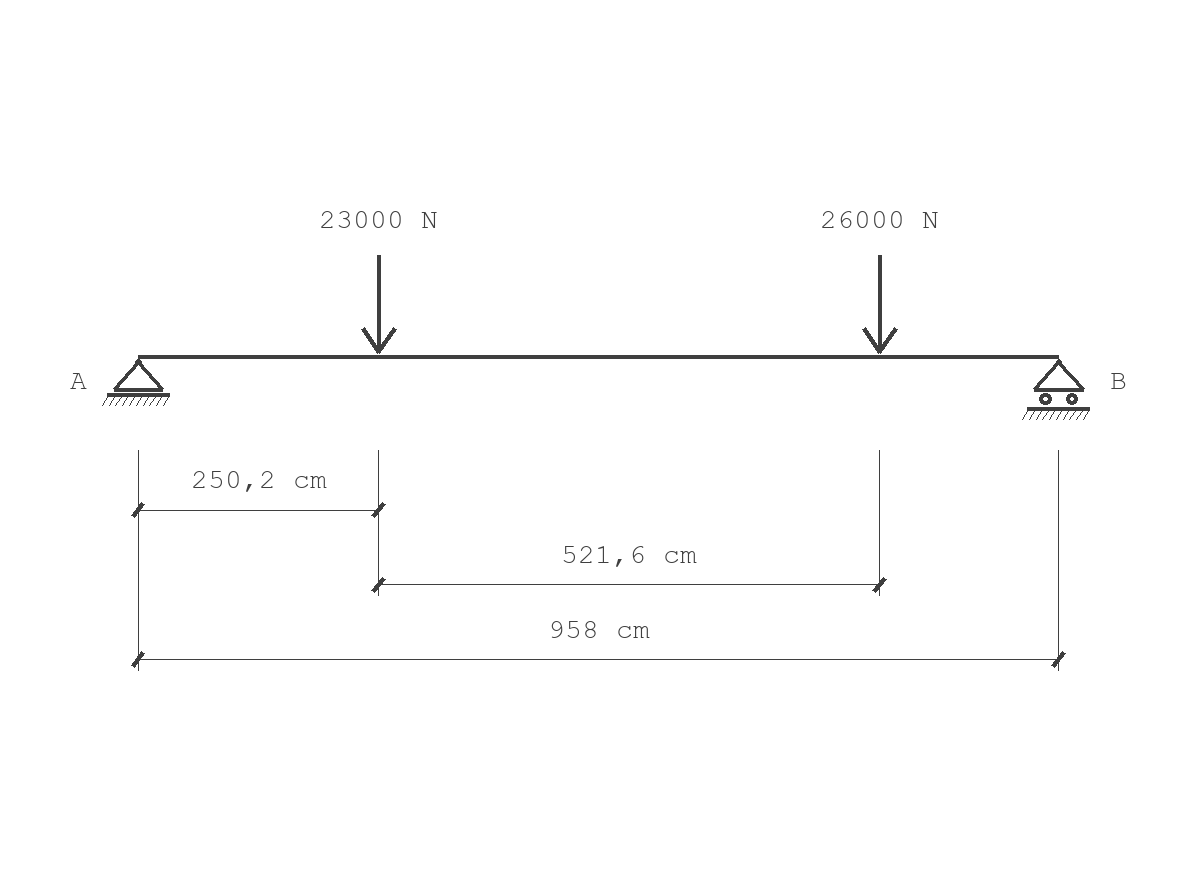pin_support: (102, 359, 170, 406)
point_load: (361, 255, 397, 354), (862, 255, 898, 354)
roller_support: (1022, 359, 1090, 420)
